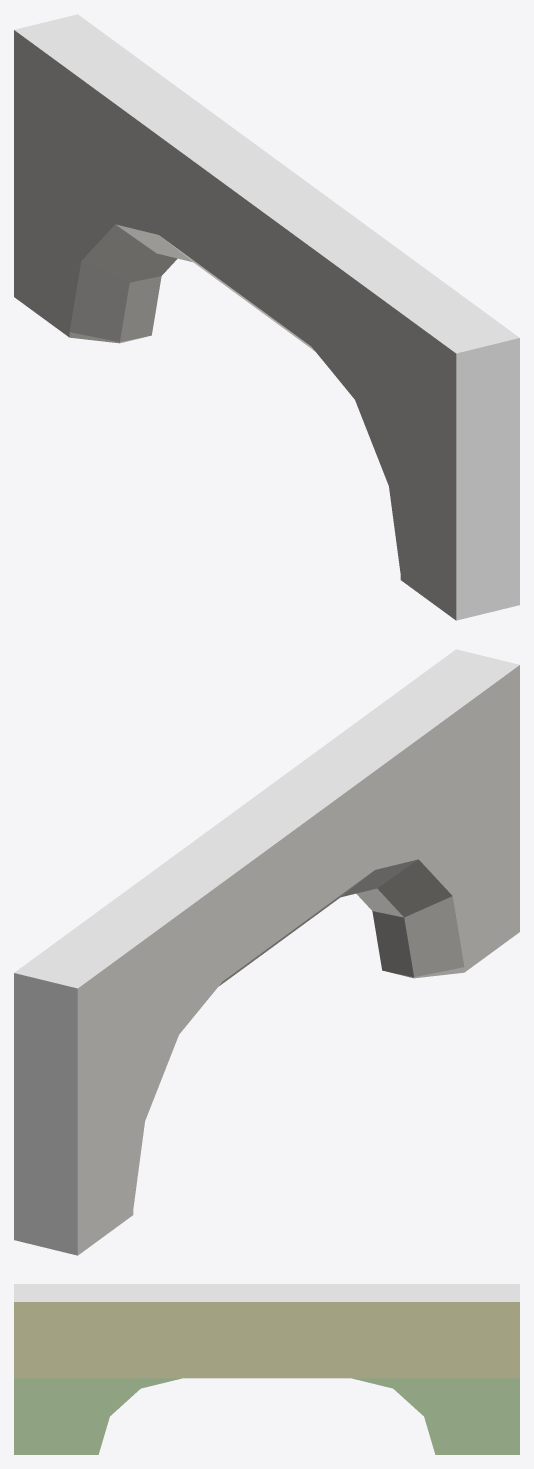
The model's file is Cliff_Cave_Entrance_Straight_Wide_Top.glb.
The picture shows the model from 3 angles, top to bottom: view 1: azimuth 30°, elevation 25°; view 2: azimuth 150°, elevation 25°; view 3: azimuth 270°, elevation 25°; orthographic projection. The views are drawn at different scales.
Parts seen in each view (by area): view 1: Cave_Edge_Straight_Top_1x3 (×2), Cave_Center_Top_1x1; view 2: Cave_Edge_Straight_Top_1x3 (×2), Cave_Center_Top_1x1; view 3: Cave_Edge_Straight_Top_1x3 (×2), Cave_Center_Top_1x1.
Part boxes in pixels (x1=…): Cave_Edge_Straight_Top_1x3 (×2): x1=14, y1=14, x2=519, y2=620; Cave_Center_Top_1x1: x1=161, y1=122, x2=371, y2=350; Cave_Edge_Straight_Top_1x3 (×2): x1=14, y1=649, x2=519, y2=1255; Cave_Center_Top_1x1: x1=162, y1=757, x2=372, y2=985; Cave_Edge_Straight_Top_1x3 (×2): x1=14, y1=1284, x2=519, y2=1454; Cave_Center_Top_1x1: x1=182, y1=1284, x2=351, y2=1378.
Size of the model in its own units: 50 by 200 by 600.
